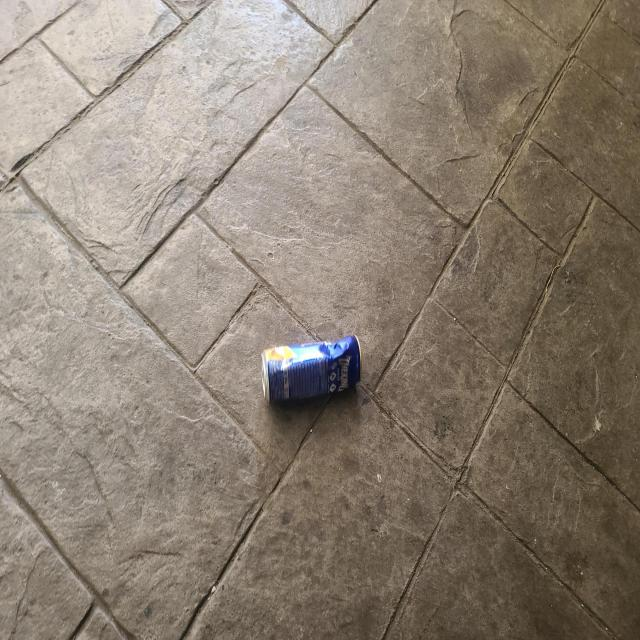can: (261, 336, 362, 403)
